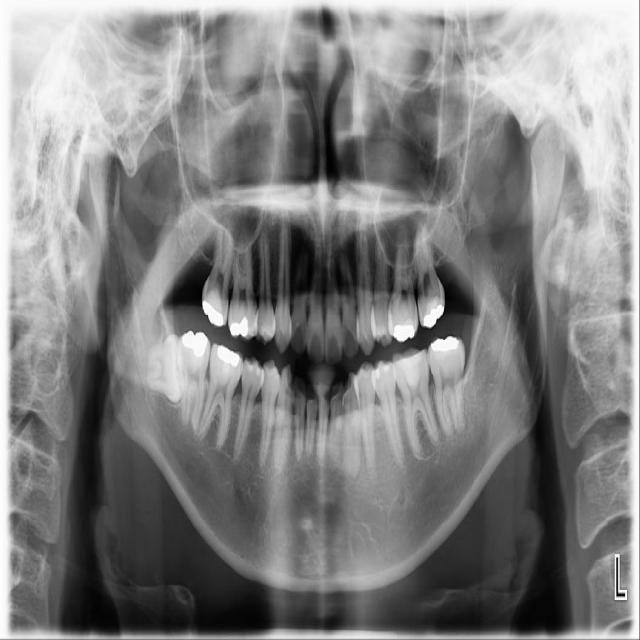Filling: (202, 289, 223, 326), (396, 354, 420, 384), (214, 344, 241, 368), (182, 332, 208, 356), (423, 303, 444, 328), (372, 362, 392, 388), (229, 317, 251, 337), (242, 359, 263, 379), (431, 336, 458, 351), (395, 324, 416, 341)
impacted tooth: (136, 334, 183, 400)
